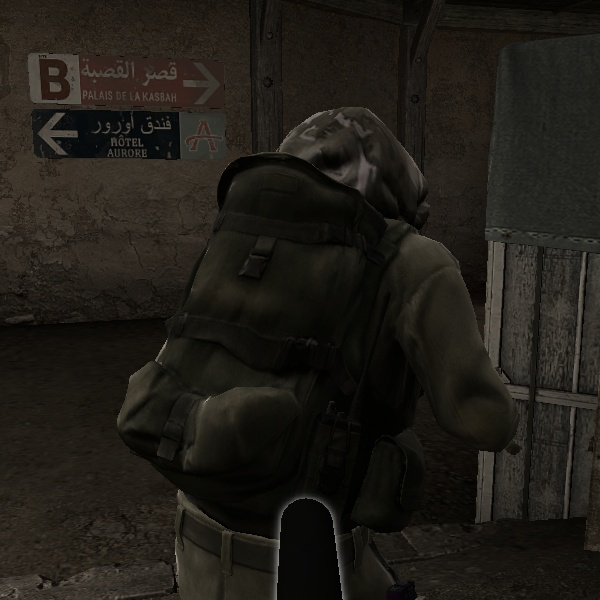ct_body: (96, 71, 477, 593)
ct_head: (263, 87, 443, 242)
